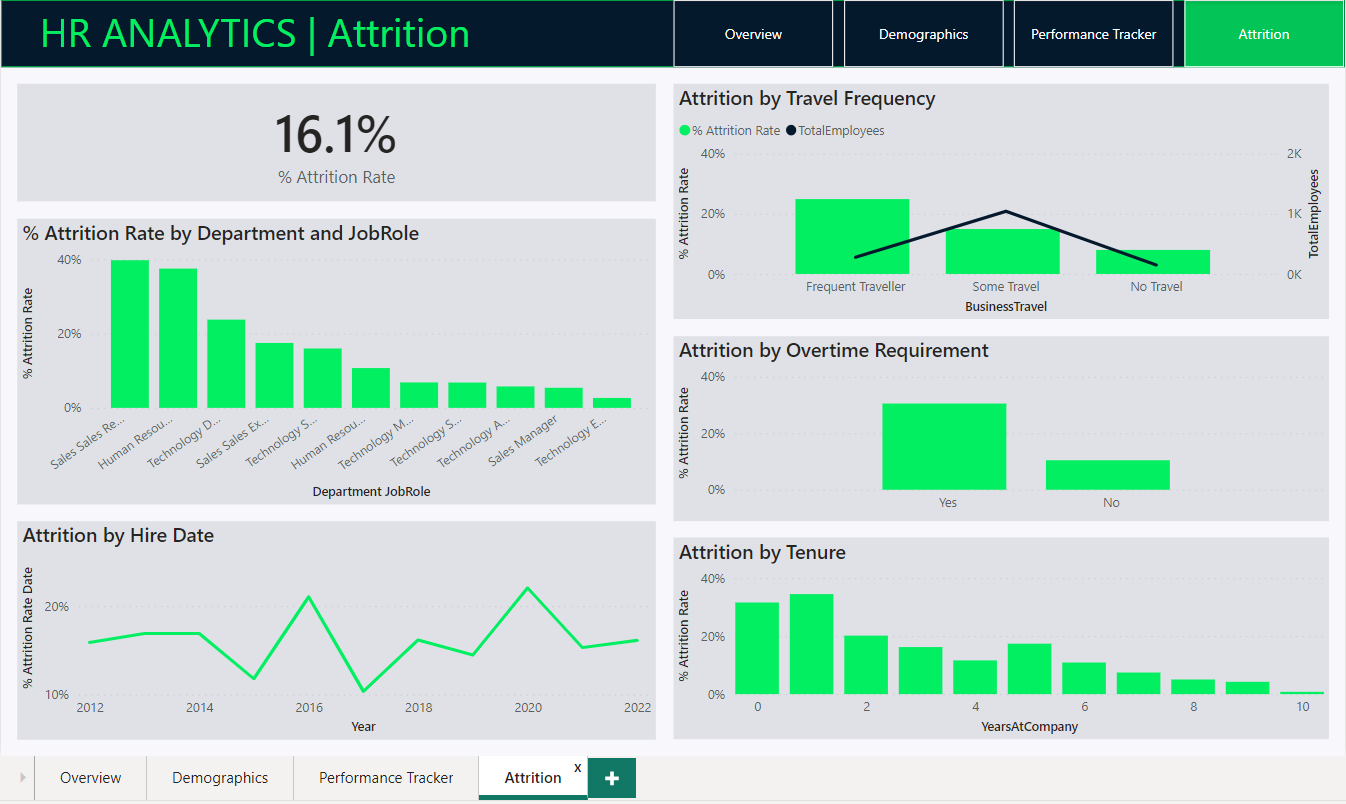

What the dashboard file says about the page in this screenshot:
{"tool":"powerbi","page":{"name":"Attrition","canvas":[1280,720],"ordinal":3},"visuals":[{"type":"card","fields":{"Values":["_Measures.% Attrition Rate"]},"box":[16,80,608,112],"z":0},{"type":"columnChart","fields":{"Category":["DimEmployee.Department","DimEmployee.JobRole"],"Y":["_Measures.% Attrition Rate"]},"box":[16,208,608,272],"z":1000},{"type":"lineChart","title":"Attrition by Hire Date","fields":{"Y":["_Measures.% Attrition Rate Date"],"Category":["DimDate.Date.Variation.Date Hierarchy.Year","DimDate.Date.Variation.Date Hierarchy.Quarter","DimDate.Date.Variation.Date Hierarchy.Month","DimDate.Date.Variation.Date Hierarchy.Day"]},"box":[16,496,608,208],"z":2000},{"type":"lineStackedColumnComboChart","title":"Attrition by Travel Frequency","fields":{"Y":["_Measures.% Attrition Rate"],"Category":["DimEmployee.BusinessTravel"],"Y2":["_Measures.TotalEmployees"]},"box":[640,80,624,224],"z":3000},{"type":"columnChart","title":"Attrition by Overtime Requirement","fields":{"Category":["DimEmployee.OverTime"],"Y":["_Measures.% Attrition Rate"]},"box":[640,320,624,176],"z":4000},{"type":"columnChart","title":"Attrition by Tenure","fields":{"Category":["DimEmployee.YearsAtCompany"],"Y":["_Measures.% Attrition Rate"]},"box":[640,512,624,192],"z":5000},{"type":"shape","box":[0,0,1280,64],"z":6000},{"type":"textbox","box":[32,0,624,64],"z":7000},{"type":"pageNavigator","box":[640,0,640,64],"z":8000}]}

Visuals, with their boxes on the page's 1280x720 design canvas (x1, y1, x2, y2). These are canvas units, not pixel positions in the 1346x804 screenshot, which may show the page scaled, cropped or inside an application window:
card - _Measures.% Attrition Rate: rect(16, 80, 624, 192)
columnChart - DimEmployee.Department x DimEmployee.JobRole: rect(16, 208, 624, 480)
"Attrition by Hire Date" lineChart: rect(16, 496, 624, 704)
"Attrition by Travel Frequency" lineStackedColumnComboChart: rect(640, 80, 1264, 304)
"Attrition by Overtime Requirement" columnChart: rect(640, 320, 1264, 496)
"Attrition by Tenure" columnChart: rect(640, 512, 1264, 704)
shape: rect(0, 0, 1280, 64)
textbox: rect(32, 0, 656, 64)
pageNavigator: rect(640, 0, 1280, 64)
